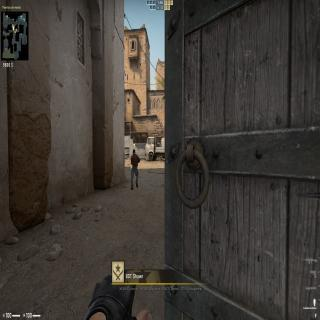T-Head: (132, 149, 136, 154)
